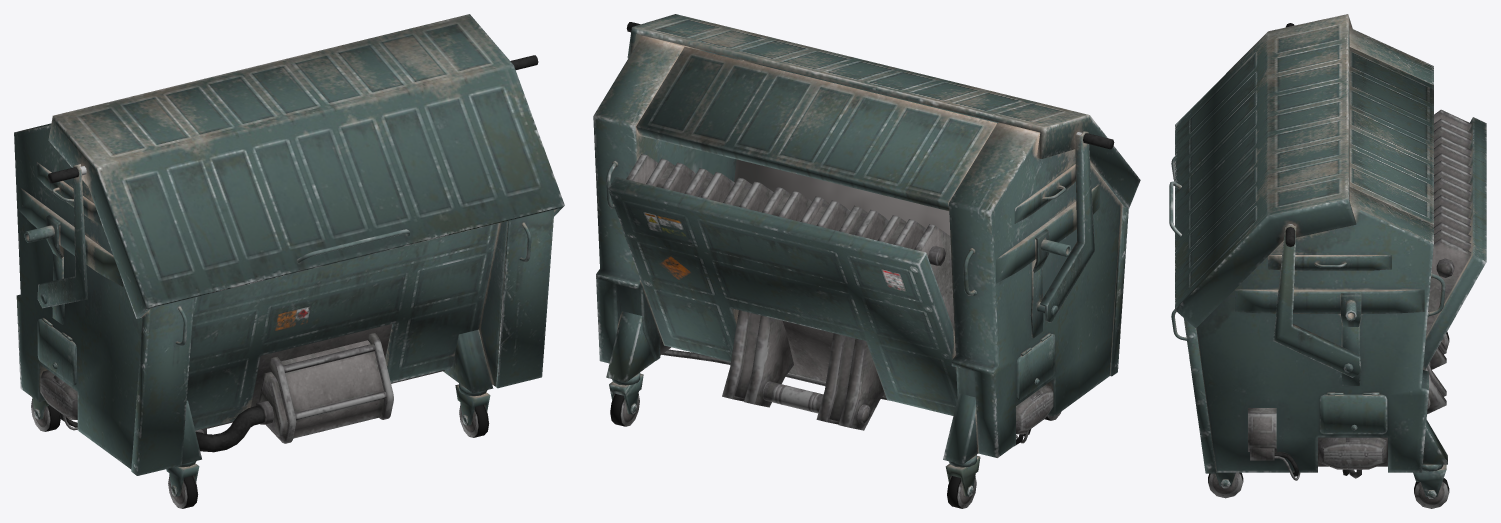
Rendered from Contenedor de Basura.glb.
3 renders of one model, left to right at view 1: azimuth 30°, elevation 25°; view 2: azimuth 150°, elevation 25°; view 3: azimuth 270°, elevation 25°, orthographic. The views are drawn at different scales.
Visible parts, largest first — view 1: 00_front_couvercle_low, 00_front_ouverture_low, 00_cadre_low, 02_detail.001_low, 04_front_mechanical.001_low, 02_detail.004_low, 01_front_roue_triangle_low, 02_detail.003_low, 01_front_roue_low, 00_front_cache_low, 04_front_mechanical_low, 02_detail.006_low (+7 smaller); view 2: 00_cadre_low, 00_back_ouverture_low, 00_back_couvercle_low, 00_front_couvercle_low, 04_back_mechanical.001_low, 00_interieur_low, 01_front_roue_triangle_low, 02_detail.003_low, 02_detail.004_low, 04_back_mechanical.002_low, 04_back_mechanical_cylindre_low, 02_detail.006_low (+14 smaller); view 3: 00_front_couvercle_low, 00_cadre_low, 00_back_couvercle_low, 02_detail.004_low, 00_back_ouverture_low, 02_detail.003_low, 02_detail.006_low, 02_detail.005_low, 04_back_mechanical.002_low, 02_detail.001_low, 02_detail.002_low, 01_front_roue_low (+14 smaller).
Part boxes in pixels (x1,y1,x2,y2): 00_front_couvercle_low: (48,14,564,318); 00_front_ouverture_low: (186,223,499,430); 00_cadre_low: (14,123,508,469); 02_detail.001_low: (131,210,554,475); 04_front_mechanical.001_low: (281,340,383,438); 02_detail.004_low: (19,161,123,286); 01_front_roue_triangle_low: (182,329,493,464); 02_detail.003_low: (37,164,87,308); 01_front_roue_low: (31,399,489,508); 00_front_cache_low: (251,324,392,407); 04_front_mechanical_low: (265,333,393,443); 02_detail.006_low: (37,318,76,385); 00_cadre_low: (593,35,1121,457); 00_back_ouverture_low: (608,177,957,415); 00_back_couvercle_low: (636,47,996,210); 00_front_couvercle_low: (627,14,1140,208); 04_back_mechanical.001_low: (722,310,884,430); 00_interieur_low: (734,159,950,397); 01_front_roue_triangle_low: (606,311,978,464); 02_detail.003_low: (1040,131,1094,322); 02_detail.004_low: (996,164,1099,283); 04_back_mechanical.002_low: (626,154,954,330); 04_back_mechanical_cylindre_low: (763,246,945,424); 02_detail.006_low: (1016,334,1055,400); 00_front_couvercle_low: (1175,14,1356,327); 00_cadre_low: (1196,28,1433,472); 00_back_couvercle_low: (1349,47,1433,224); 02_detail.004_low: (1235,255,1424,313); 00_back_ouverture_low: (1423,117,1486,370); 02_detail.003_low: (1273,224,1361,377); 02_detail.006_low: (1319,394,1387,434); 02_detail.005_low: (1319,437,1386,469); 04_back_mechanical.002_low: (1426,109,1471,334); 02_detail.001_low: (1184,318,1216,473); 02_detail.002_low: (1248,408,1276,460); 01_front_roue_low: (1208,332,1449,508).
Bounding box in the file's own units: 5.09 × 3.57 × 3.16.
Materials: 1 (1 with a texture image).
